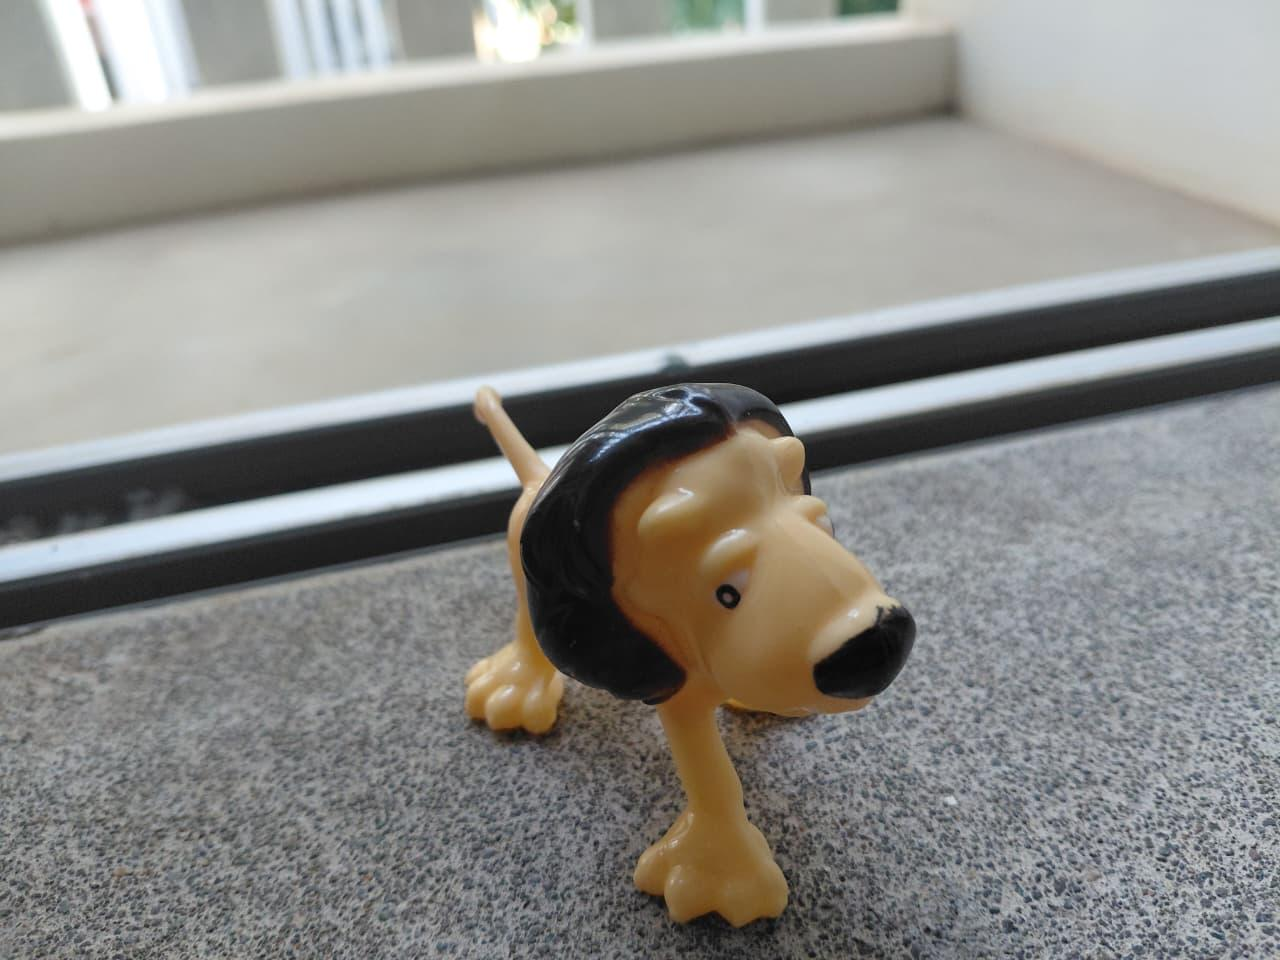lion: (414, 343, 1000, 943)
